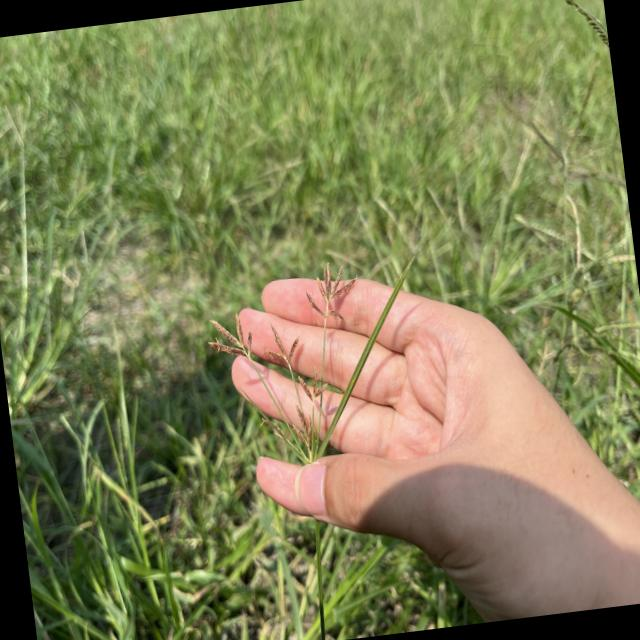cyperus: (190, 257, 388, 493)
